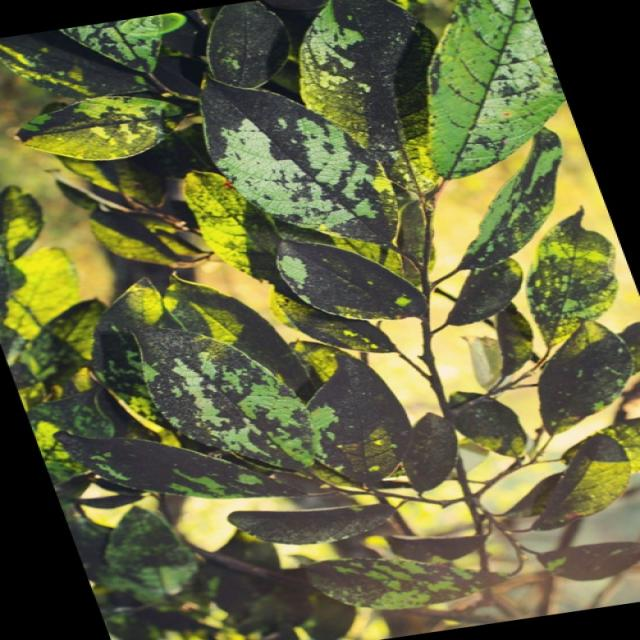Sooty Mold: (3, 1, 636, 622)
